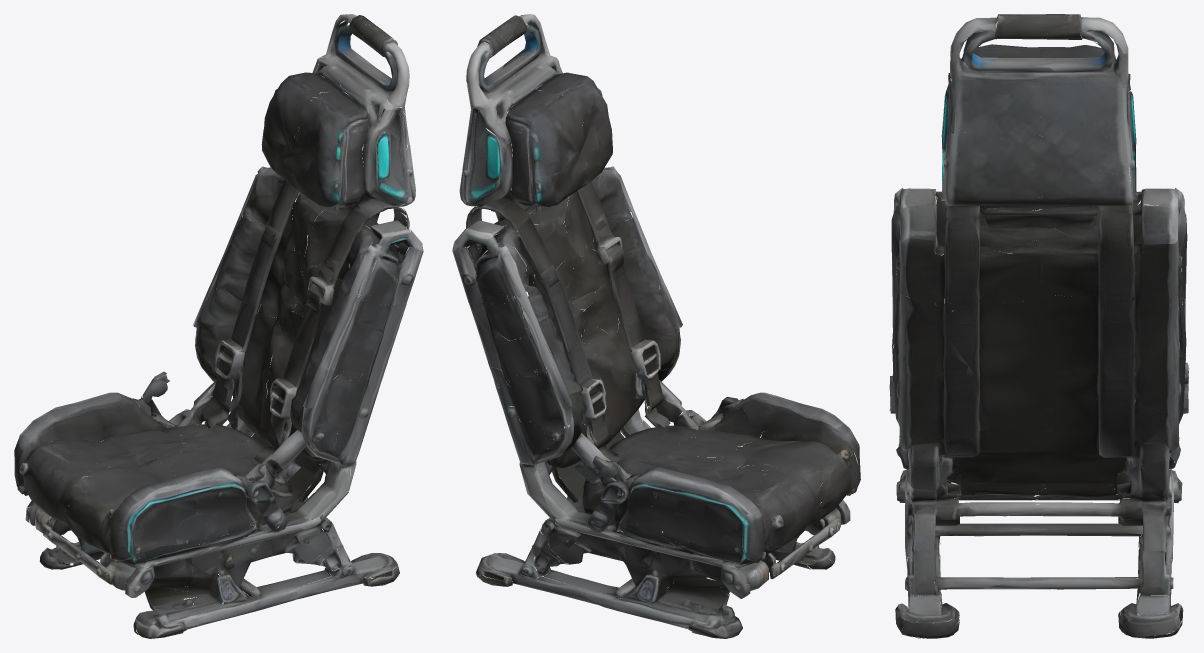
The model's file is seat.glb.
3 renders of one model, left to right at view 1: azimuth 30°, elevation 25°; view 2: azimuth 150°, elevation 25°; view 3: azimuth 270°, elevation 25°, orthographic. The views are drawn at different scales.
Visible parts, largest first — view 1: tripo_node_339e7ae6-da6f-4906-bc94-6fc64b0241cd; view 2: tripo_node_339e7ae6-da6f-4906-bc94-6fc64b0241cd; view 3: tripo_node_339e7ae6-da6f-4906-bc94-6fc64b0241cd.
Part boxes in pixels (bbox=[...]): tripo_node_339e7ae6-da6f-4906-bc94-6fc64b0241cd: bbox=[14, 14, 423, 638]; tripo_node_339e7ae6-da6f-4906-bc94-6fc64b0241cd: bbox=[452, 14, 860, 638]; tripo_node_339e7ae6-da6f-4906-bc94-6fc64b0241cd: bbox=[889, 14, 1189, 638].
Size of the model in its own units: 0.6044 by 0.9 by 0.3812.
1 material, 1 textured.
